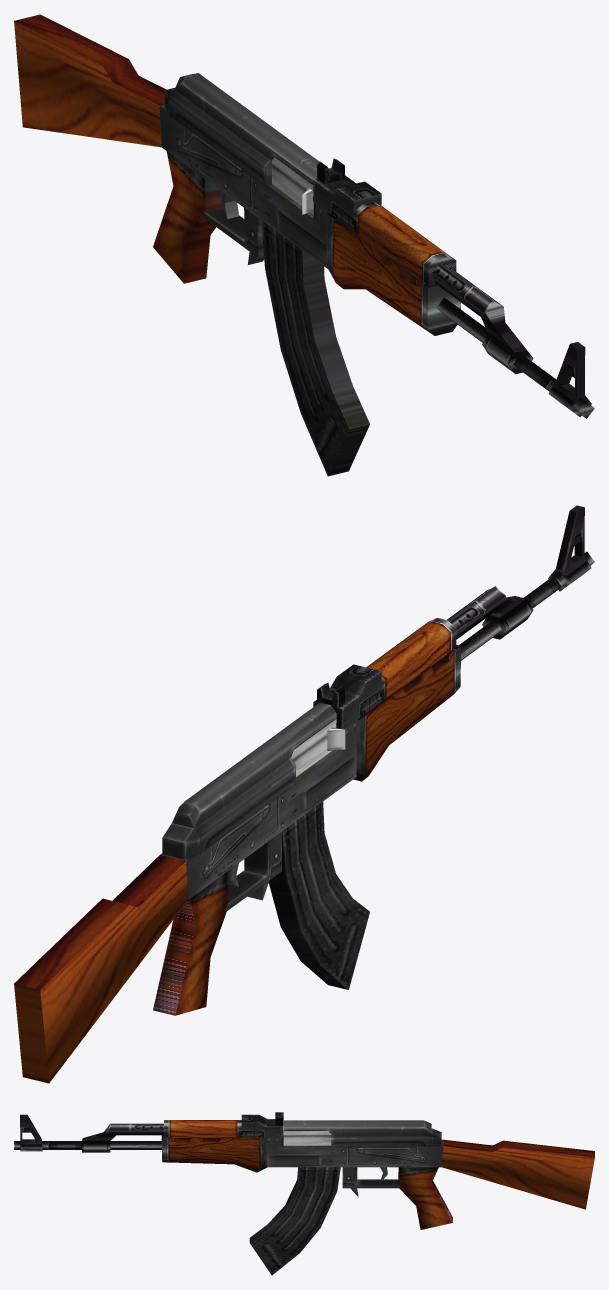
3 views of the same model, one above another, from view 1: azimuth 30°, elevation 25°; view 2: azimuth 150°, elevation 25°; view 3: azimuth 270°, elevation 25° (orthographic). The views are drawn at different scales.
Visible parts, largest first — view 1: wood.bmp, magazine.bmp, barrel.bmp, lower_body.bmp, upper_body.bmp, forearm.bmp, handle.bmp, reticle.bmp; view 2: wood.bmp, magazine.bmp, lower_body.bmp, upper_body.bmp, barrel.bmp, handle.bmp, forearm.bmp, reticle.bmp; view 3: wood.bmp, lower_body.bmp, magazine.bmp, barrel.bmp, upper_body.bmp, forearm.bmp, handle.bmp, reticle.bmp.
Part boxes in pixels (box(x1,y1,x2,y2)): wood.bmp: box(14, 14, 166, 147); magazine.bmp: box(261, 220, 369, 476); barrel.bmp: box(354, 202, 594, 418); lower_body.bmp: box(159, 105, 328, 269); upper_body.bmp: box(165, 73, 328, 264); forearm.bmp: box(326, 213, 460, 335); handle.bmp: box(153, 151, 223, 283); reticle.bmp: box(313, 158, 381, 230); wood.bmp: box(14, 855, 188, 1083); magazine.bmp: box(269, 801, 369, 989); lower_body.bmp: box(160, 719, 356, 911); upper_body.bmp: box(162, 702, 336, 900); barrel.bmp: box(366, 505, 594, 700); handle.bmp: box(153, 871, 227, 1015); forearm.bmp: box(353, 645, 460, 781); reticle.bmp: box(313, 664, 381, 729); wood.bmp: box(441, 1139, 594, 1209); lower_body.bmp: box(266, 1126, 443, 1188); magazine.bmp: box(249, 1167, 340, 1275); barrel.bmp: box(14, 1114, 241, 1152); upper_body.bmp: box(284, 1120, 441, 1196); forearm.bmp: box(161, 1135, 267, 1172); handle.bmp: box(398, 1167, 452, 1229); reticle.bmp: box(241, 1112, 283, 1137).
Bounding box in the file's own units: 3.47 × 26.55 × 87.96.
